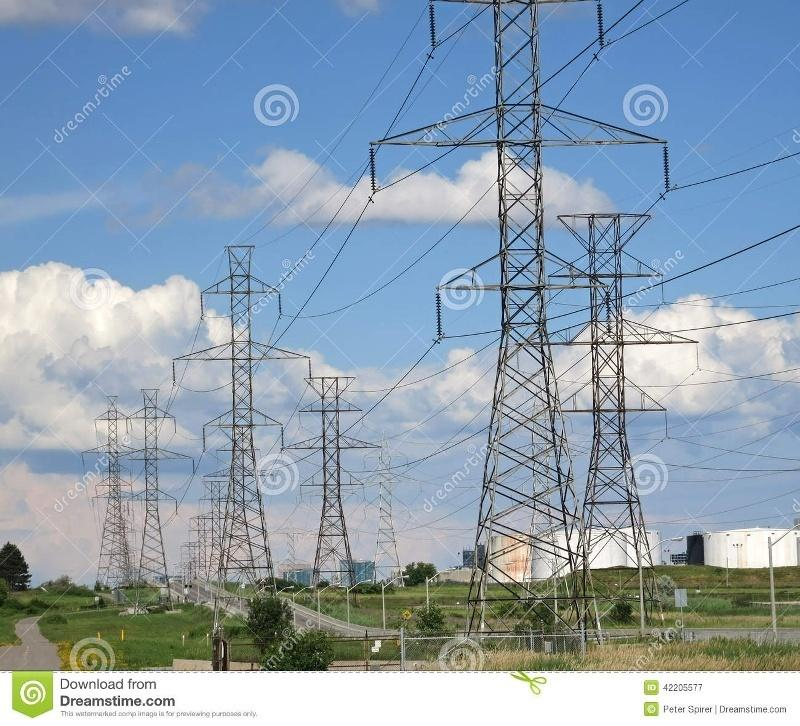power_tower: (383, 0, 640, 645), (189, 234, 305, 596), (90, 380, 178, 601), (287, 378, 361, 589)
